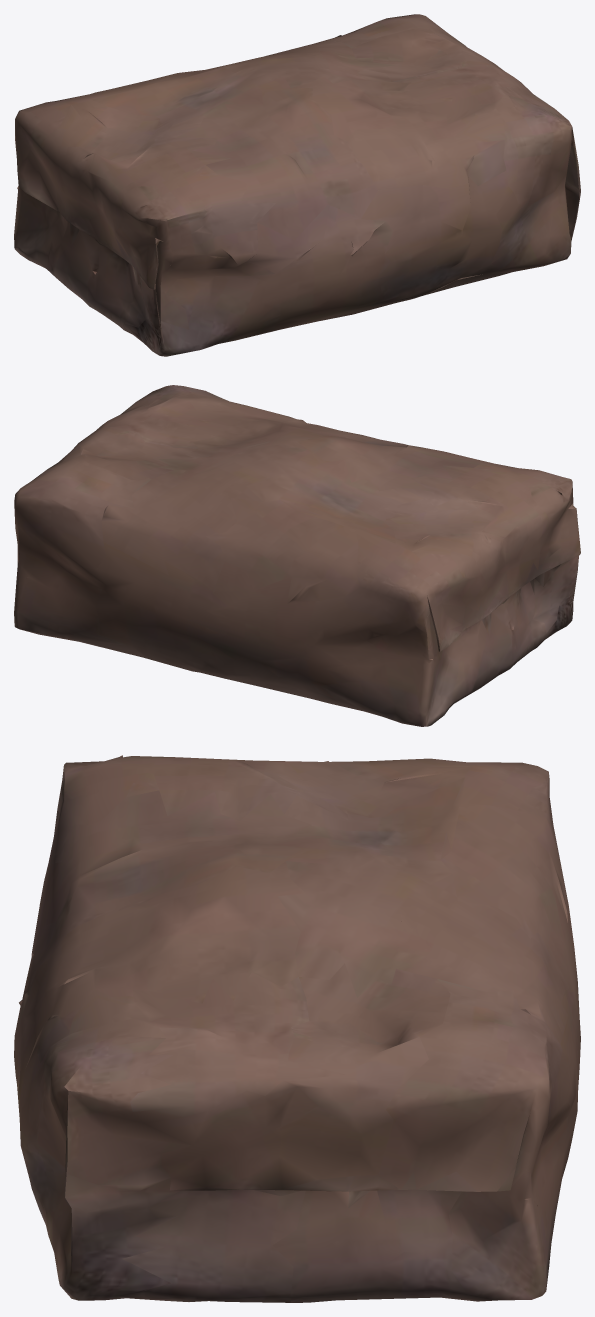
The model's file is soap_kusok_myla_idle.glb.
3 views of the same model, one above another, from view 1: azimuth 30°, elevation 25°; view 2: azimuth 150°, elevation 25°; view 3: azimuth 270°, elevation 25° (orthographic). The views are drawn at different scales.
Parts seen in each view (by area): view 1: tripo_node_67503e16-d03d-49ae-8e30-37761e428fb4; view 2: tripo_node_67503e16-d03d-49ae-8e30-37761e428fb4; view 3: tripo_node_67503e16-d03d-49ae-8e30-37761e428fb4.
Part boxes in pixels (bbox=[...]): tripo_node_67503e16-d03d-49ae-8e30-37761e428fb4: bbox=[14, 14, 580, 356]; tripo_node_67503e16-d03d-49ae-8e30-37761e428fb4: bbox=[14, 385, 580, 726]; tripo_node_67503e16-d03d-49ae-8e30-37761e428fb4: bbox=[14, 755, 580, 1302].
Bounding box in the file's own units: 0.08 × 0.0323 × 0.0574.
Materials: 1 (1 with a texture image).
